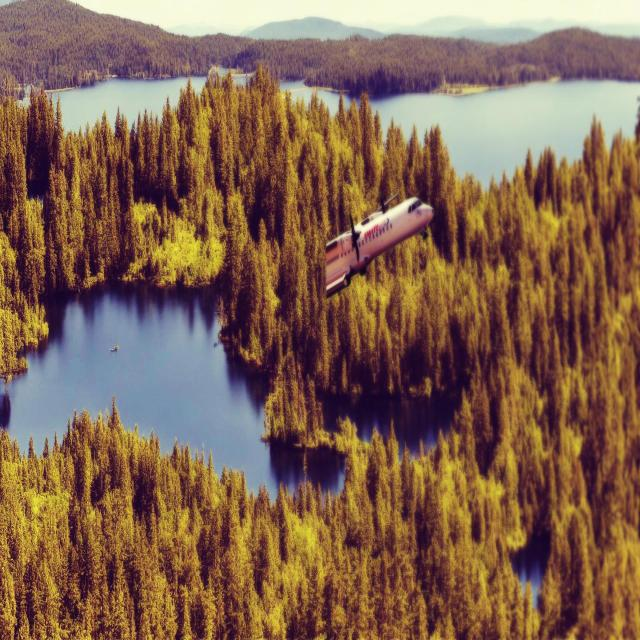airplane: (324, 190, 434, 298)
